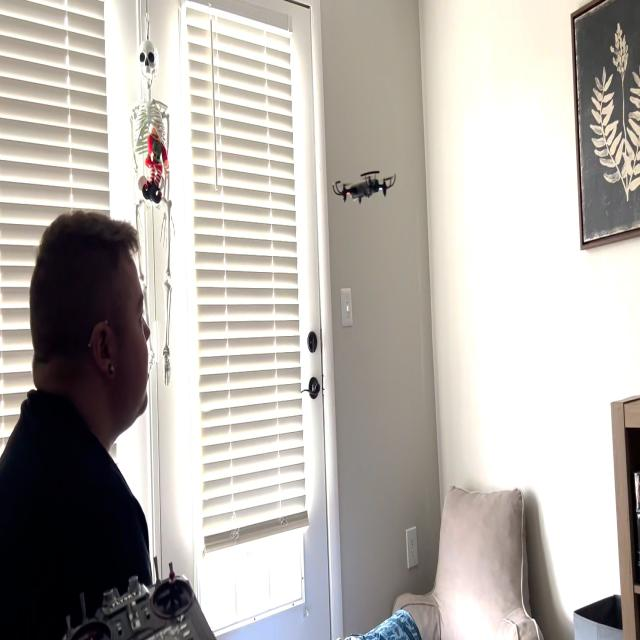drone: (327, 158, 404, 213)
